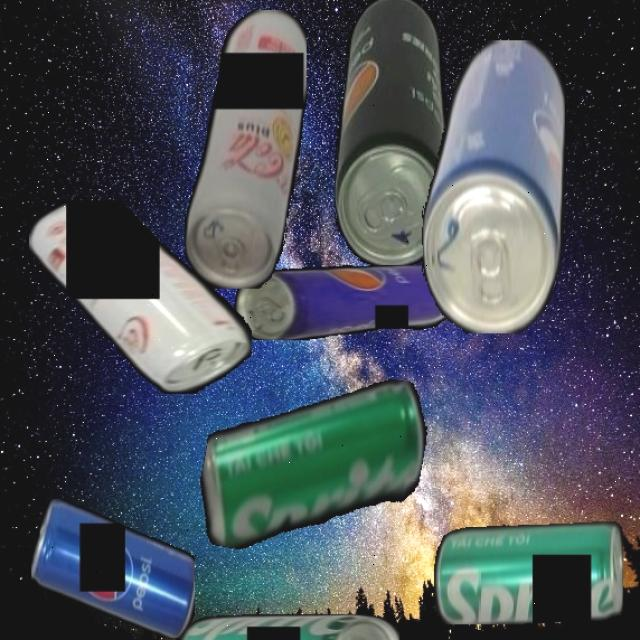debris: (190, 350, 435, 578), (29, 199, 252, 394), (421, 39, 565, 334), (184, 9, 306, 289), (333, 0, 448, 265), (30, 498, 195, 638), (433, 520, 623, 624), (234, 264, 453, 340), (180, 614, 400, 640)
